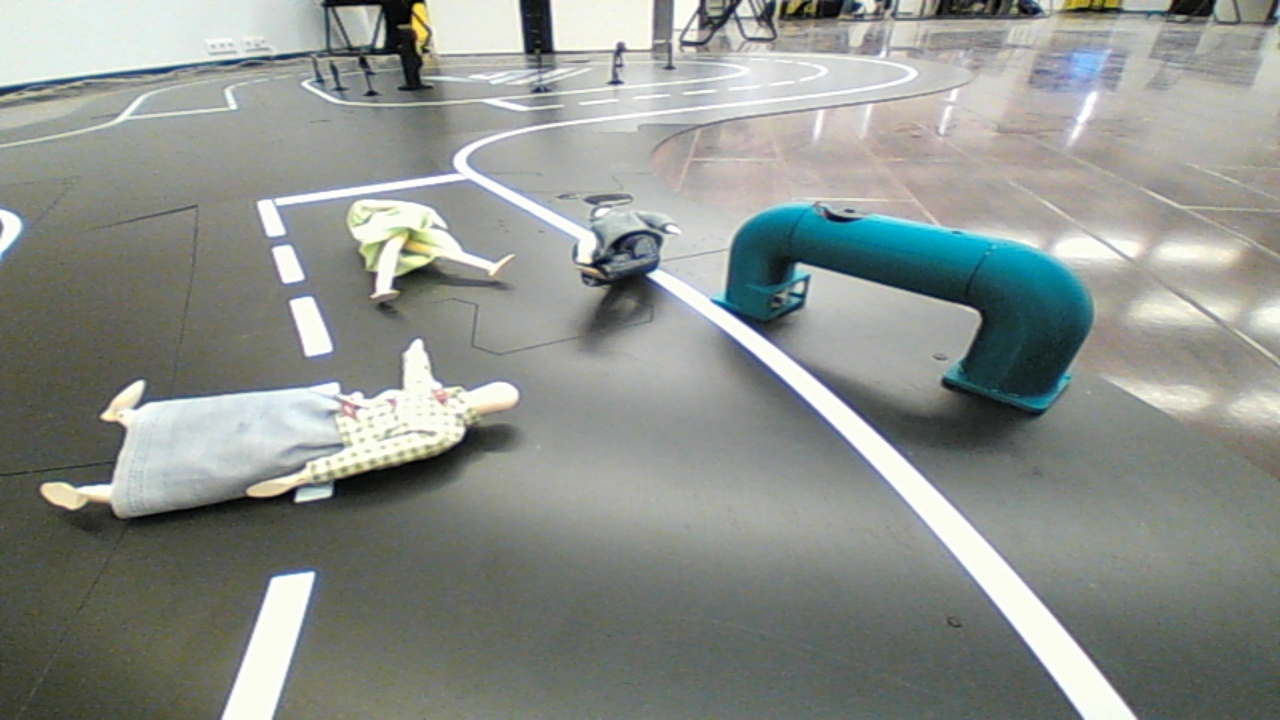Pedestrian crossing: (706, 171, 1113, 427)
Road works: (23, 334, 540, 531), (317, 183, 520, 310), (550, 177, 691, 298)
